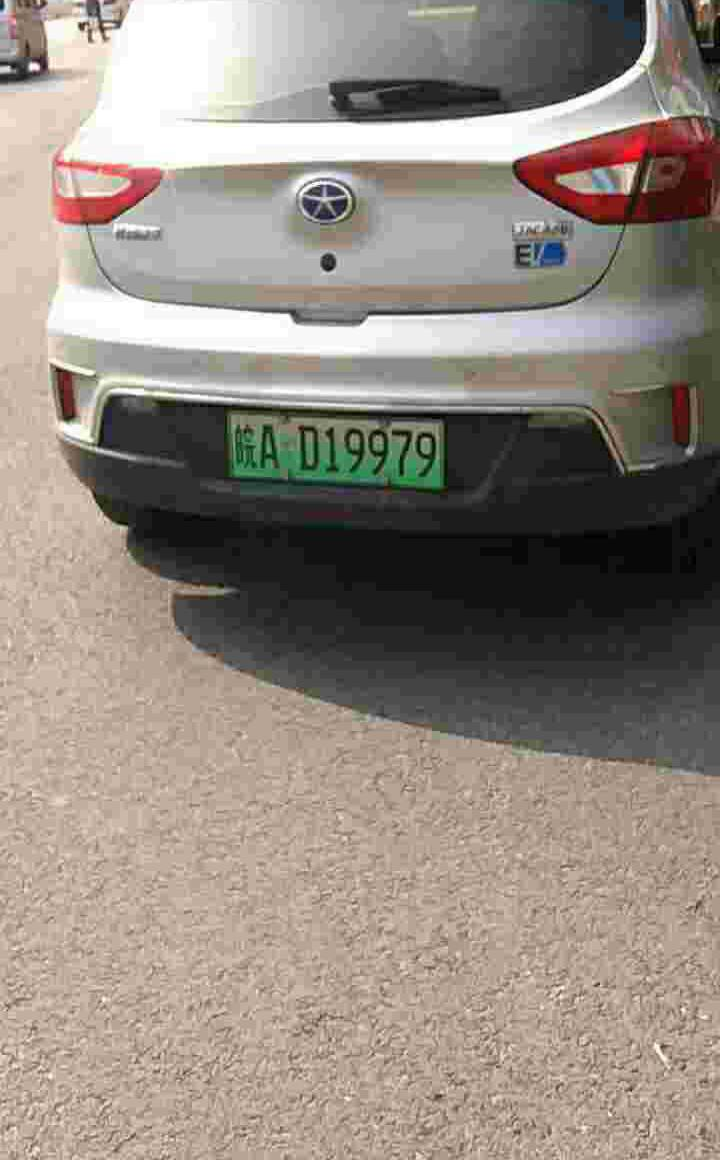car_green: (219, 404, 448, 491)
